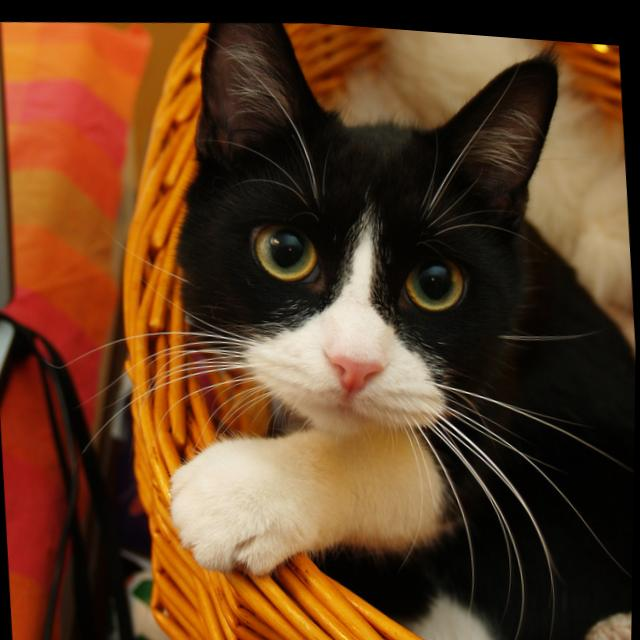animals: (192, 11, 571, 404)
